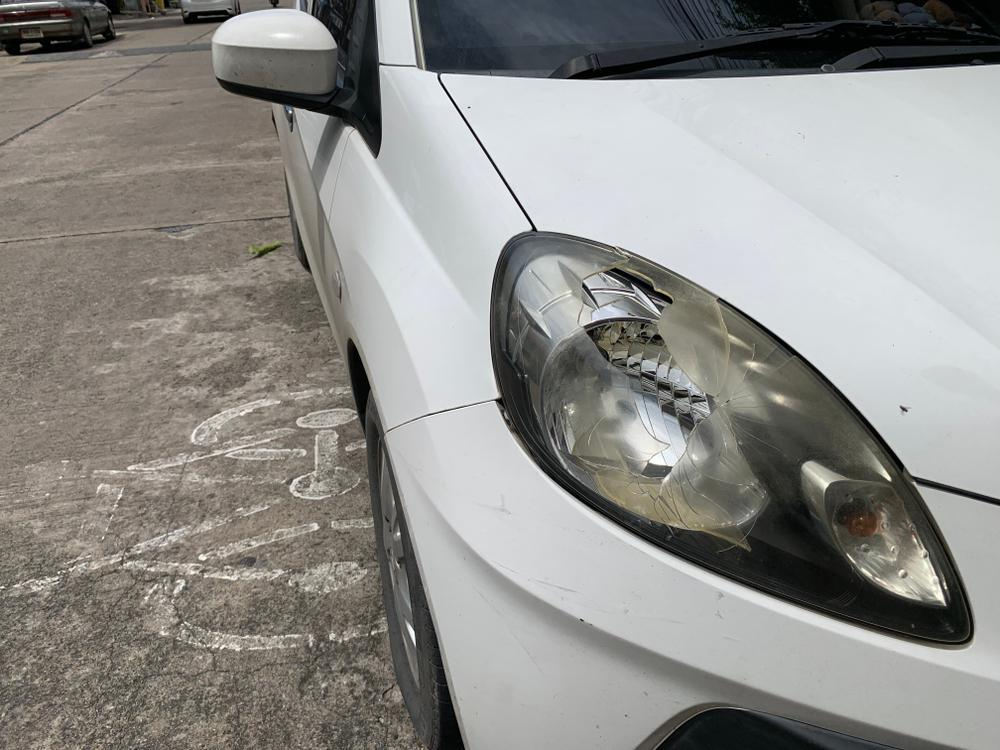lamp broken: (493, 238, 974, 645)
